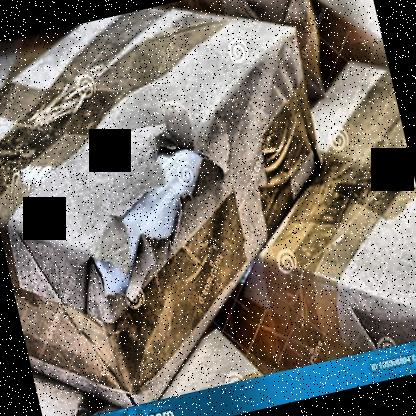defect parcel: (22, 100, 268, 359)
